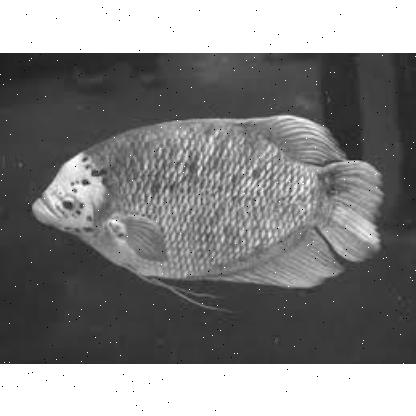gurame: (31, 116, 372, 296)
